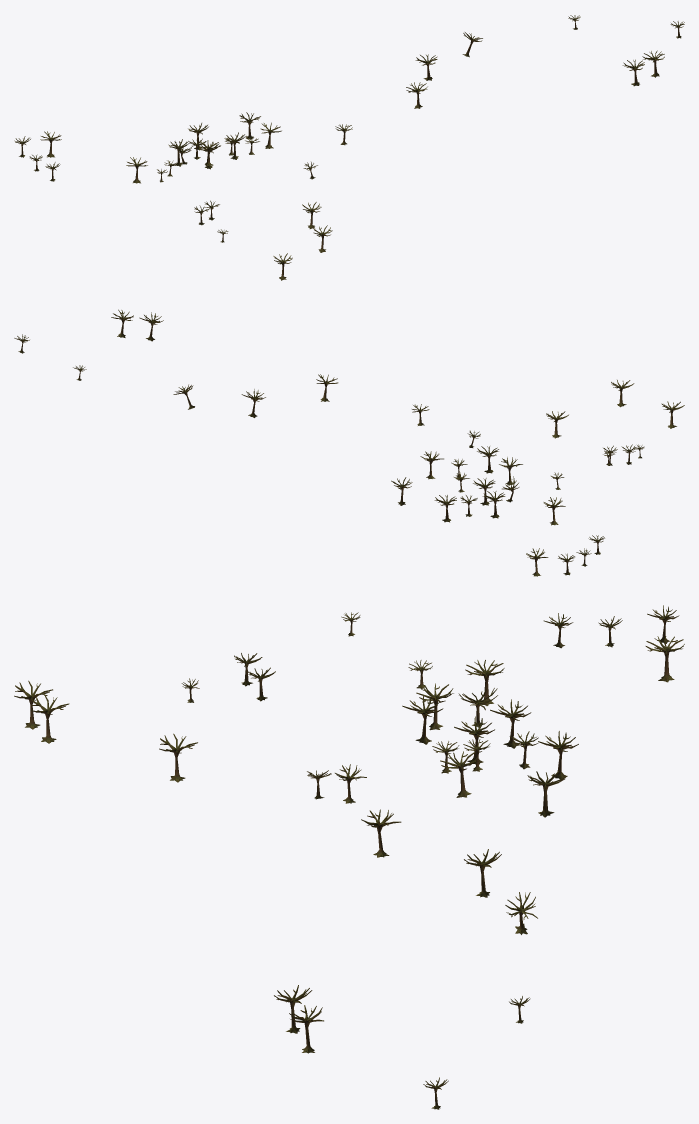
The model's file is Trees2.FBX.
The picture shows the model from 3 angles, top to bottom: view 1: azimuth 30°, elevation 25°; view 2: azimuth 150°, elevation 25°; view 3: azimuth 270°, elevation 25°; orthographic projection. The views are drawn at different scales.
Visible parts, largest first — view 1: Tree:Tree140; view 2: Tree:Tree140; view 3: Tree:Tree140.
Part boxes in pixels (x1,y1,x2,y2): Tree:Tree140: (14, 15, 684, 280); Tree:Tree140: (14, 309, 684, 576); Tree:Tree140: (14, 605, 684, 1109).
Size of the model in its own units: 900 by 90.61 by 494.
